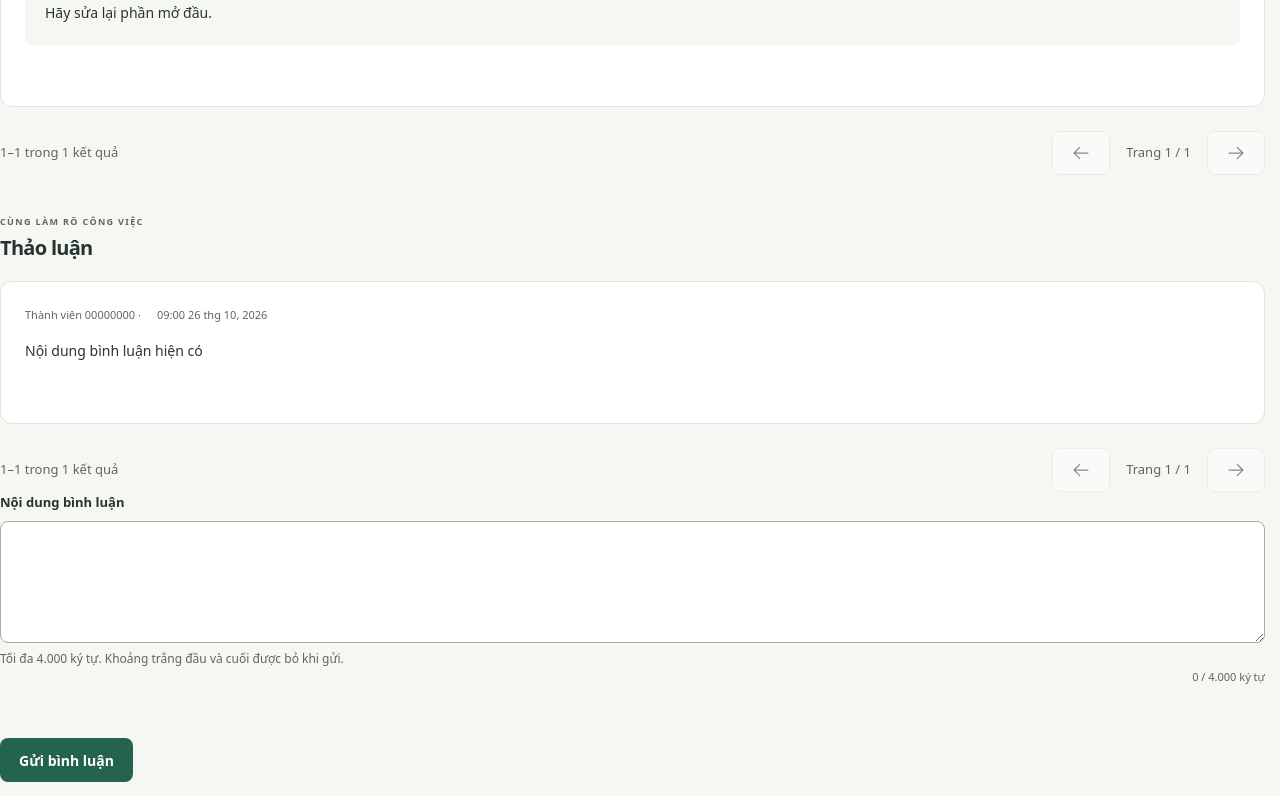
Test: request-specific comment capabilities › creates through the current scope, then edits only the exact newly returned comment
This screenshot has width=1280, height=796.
(page scrolled)
Type "Bình luận tôi vừa gửi" into the text box labelled "Nội dung bình luận" at (632, 582), box [0, 520, 1265, 642]
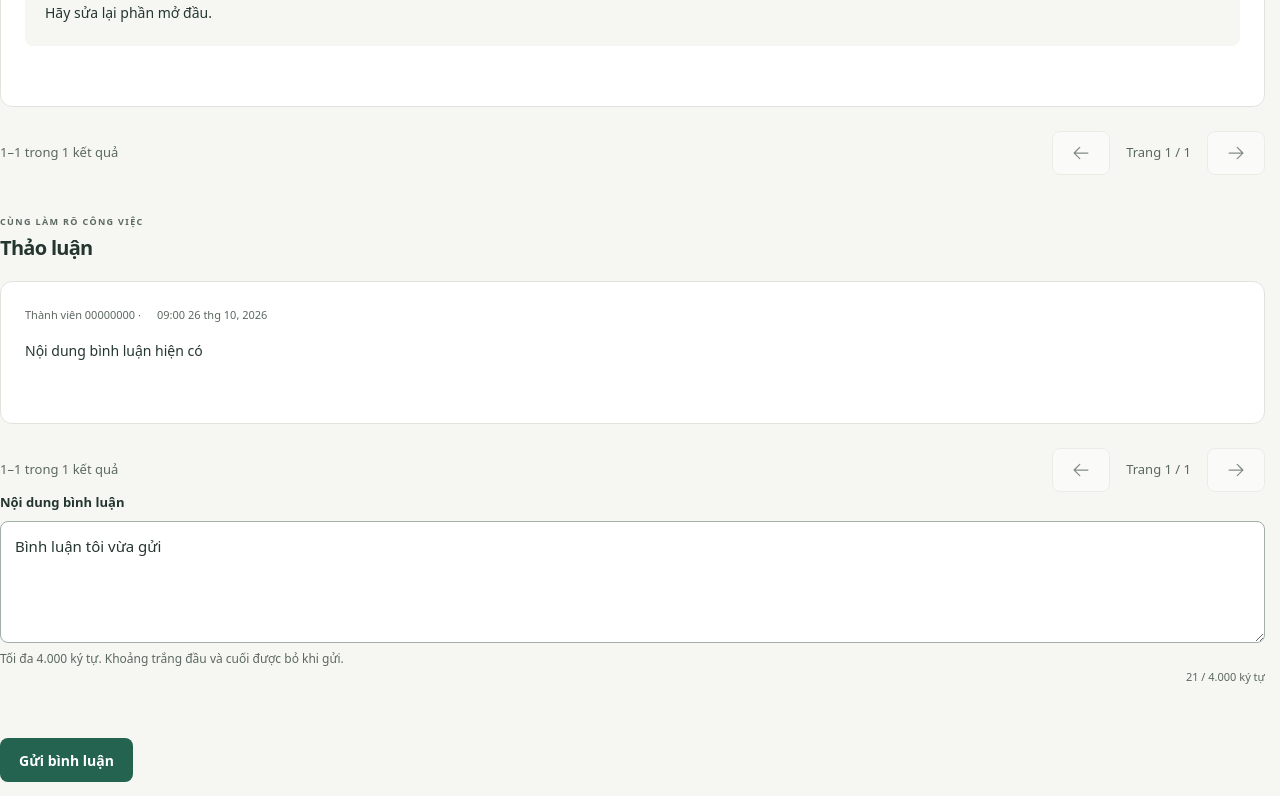
Click the button "Gửi bình luận" at (66, 760), box [0, 738, 133, 782]
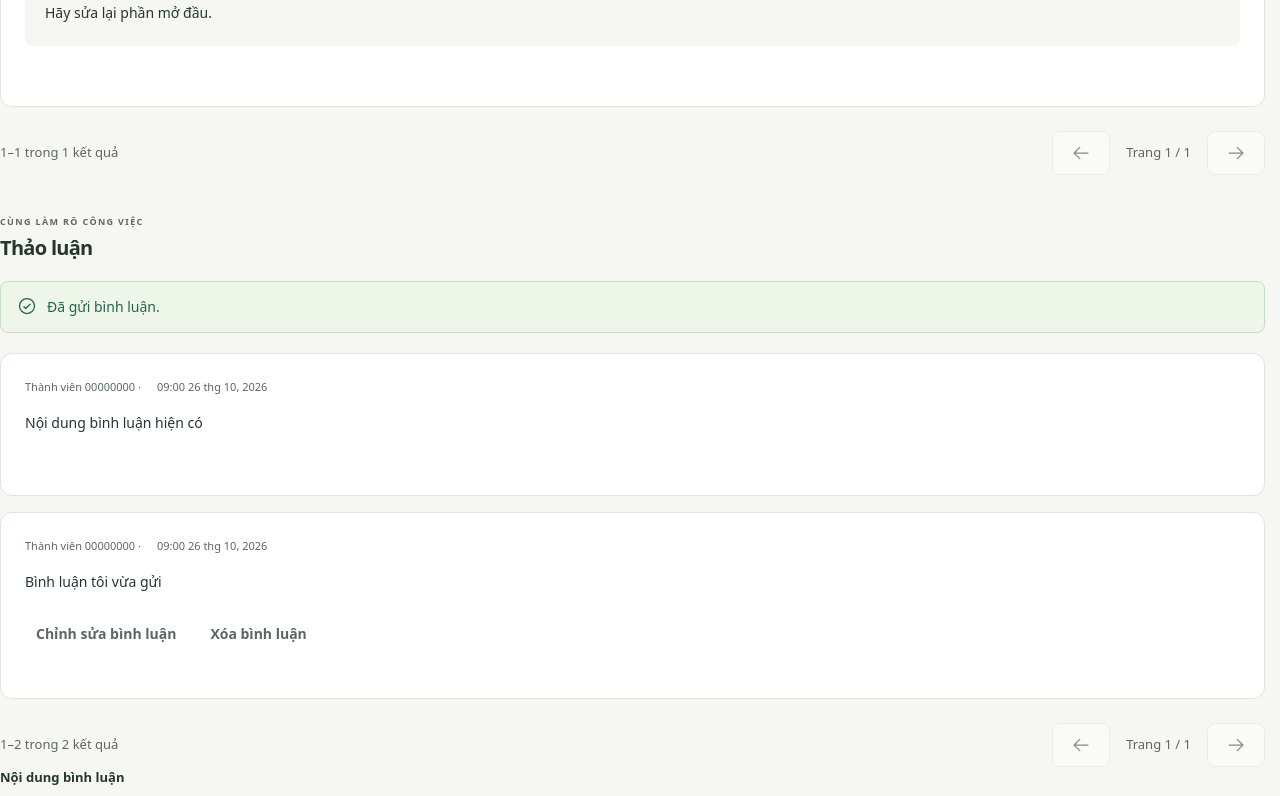
Now the button "Chỉnh sửa bình luận" is shown
Click the button "Chỉnh sửa bình luận" at (106, 634), box [25, 612, 187, 656]
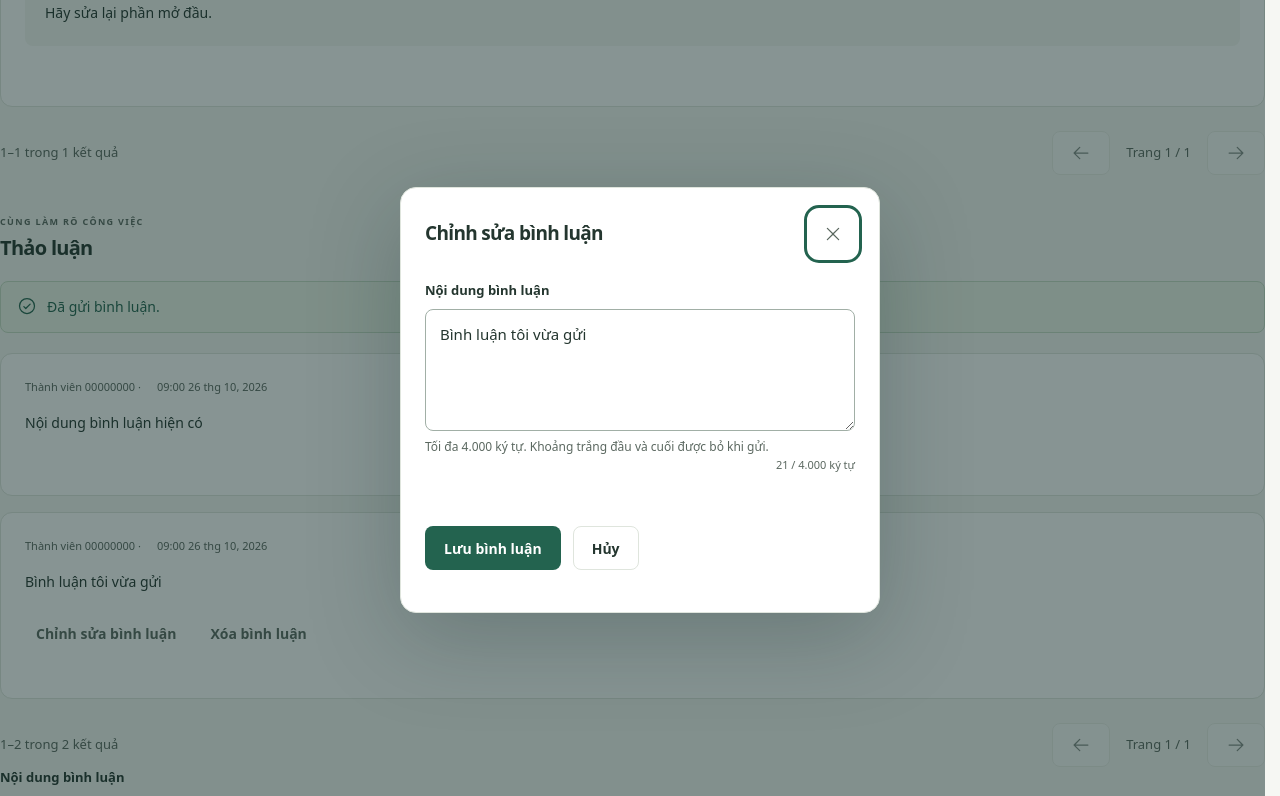
Replace the text in the text box labelled "Nội dung bình luận" with "  Nội dung mới đã sửa  " at (640, 370), box [425, 308, 855, 430]
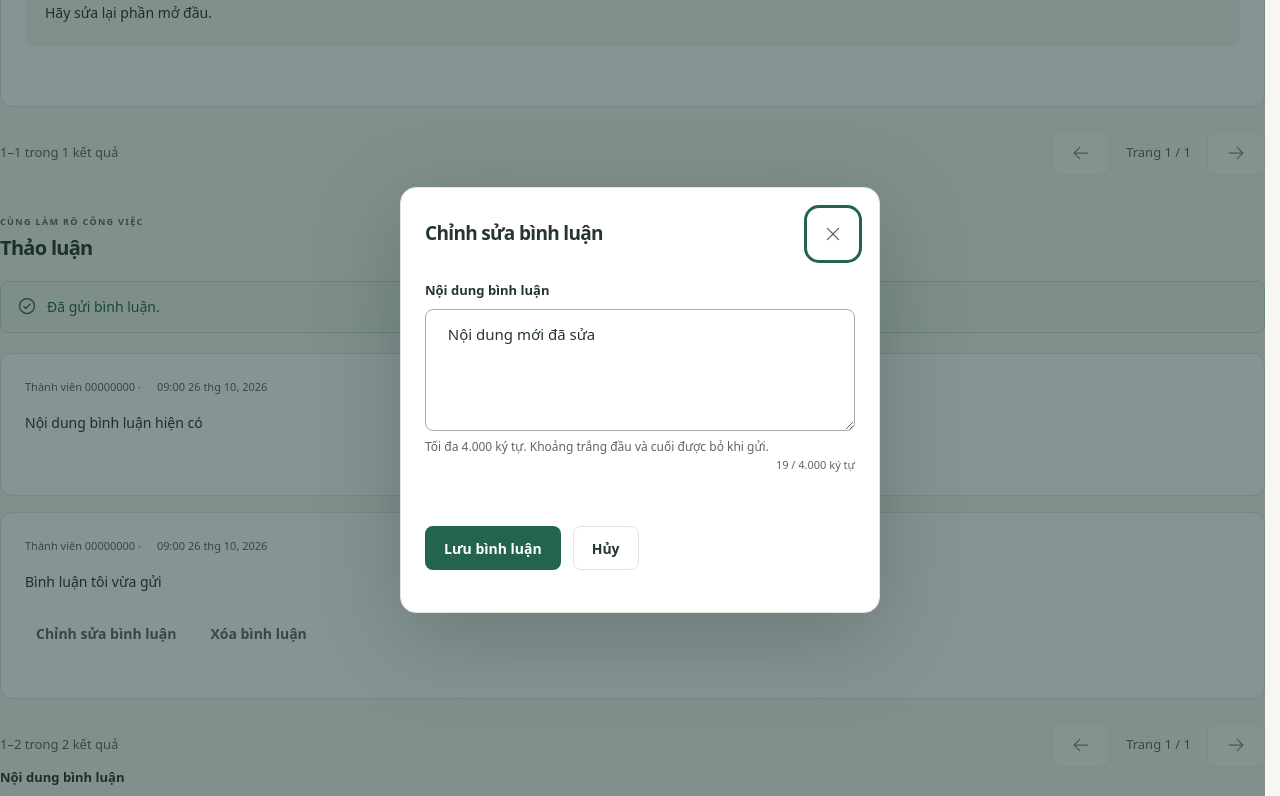
Click the button "Lưu bình luận" at (493, 548), box [425, 526, 561, 570]
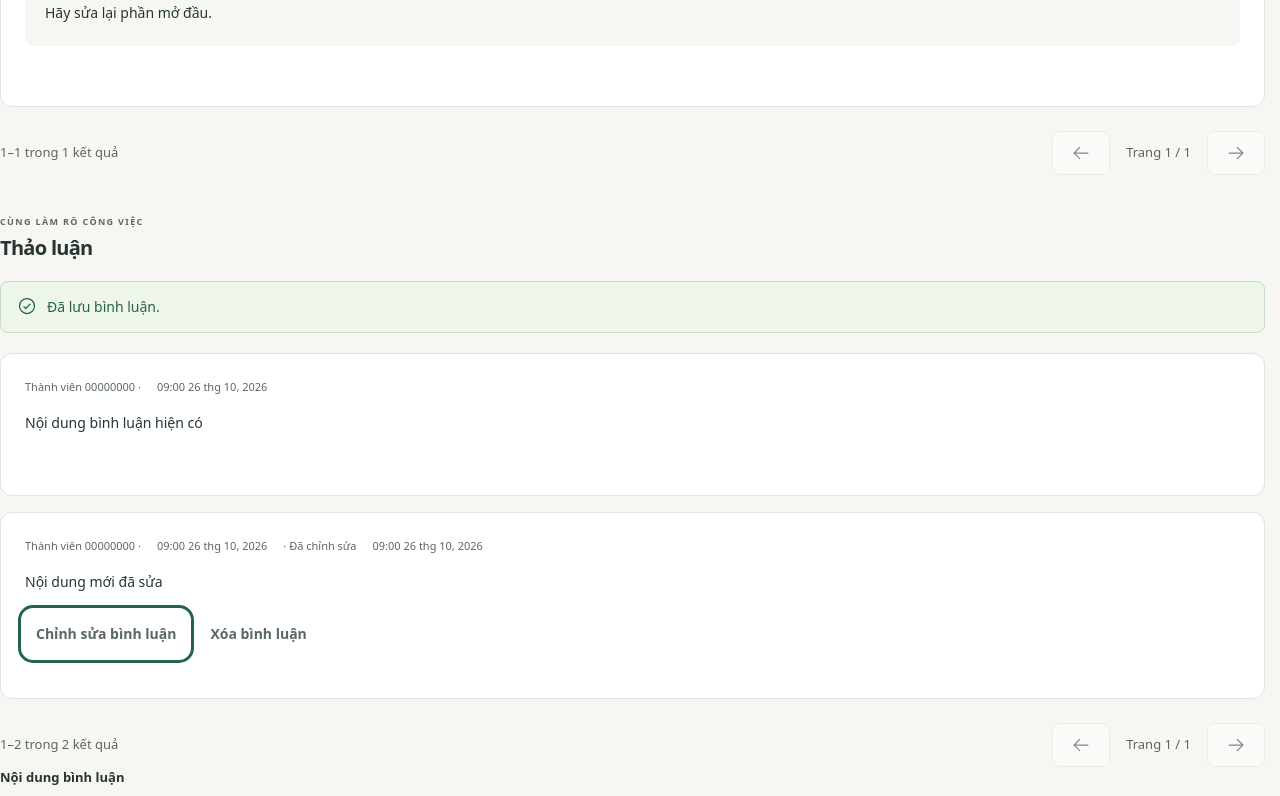
Now the text "Nội dung mới đã sửa" is shown, box [25, 572, 163, 591]
Now the dialog is gone
